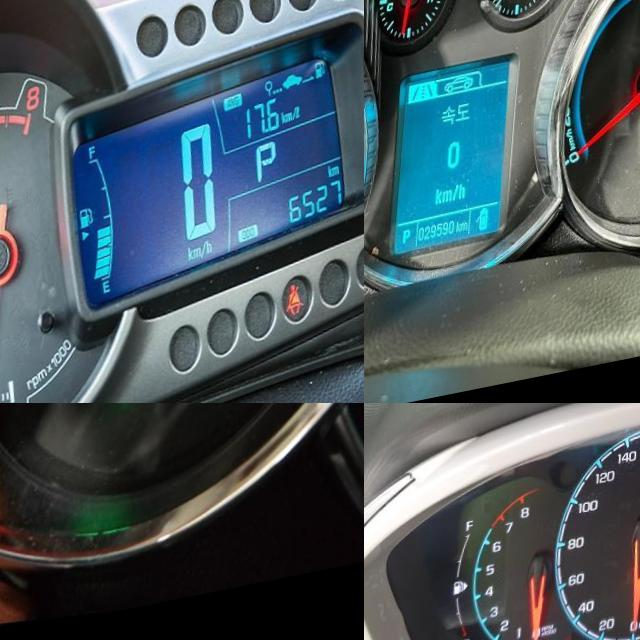SideLamp: (109, 403, 146, 412)
